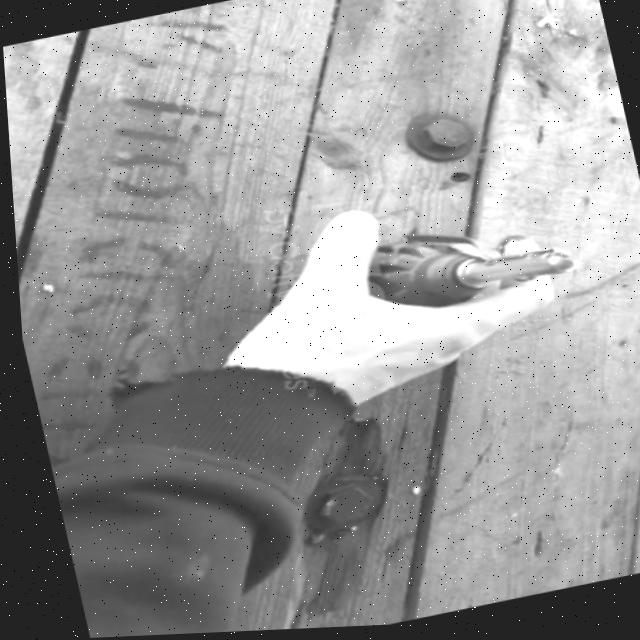grenade: (353, 202, 599, 338)
